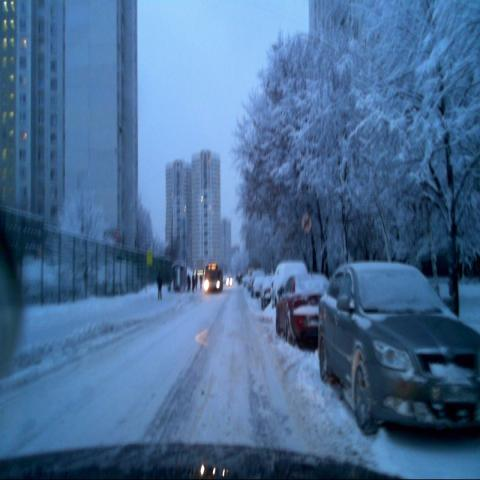3_25: (300, 212, 313, 233)
